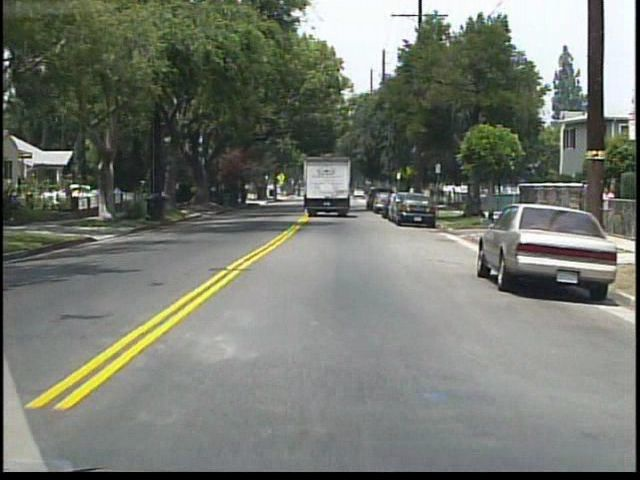person: (597, 183, 614, 200)
